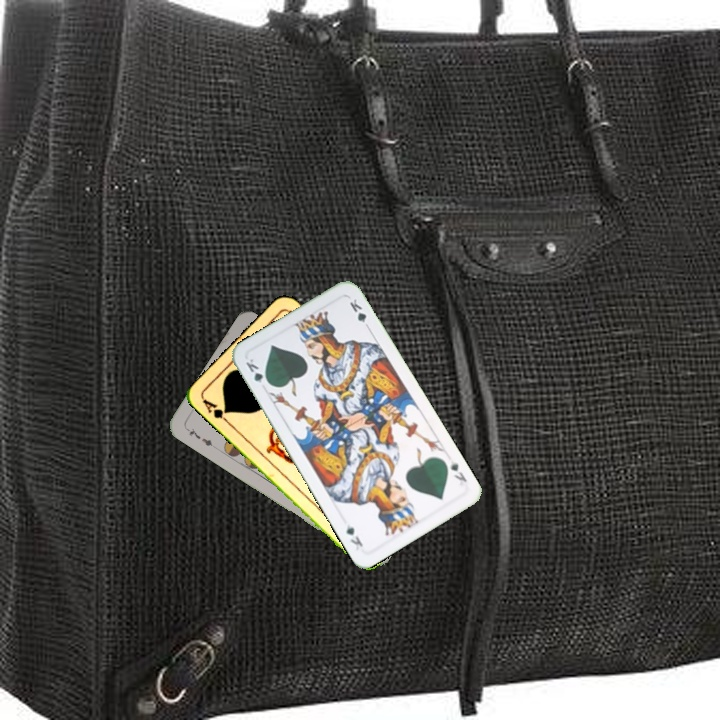E7: (182, 424, 218, 450)
GA: (198, 395, 232, 427)
GK: (241, 355, 273, 388), (446, 456, 470, 485)
